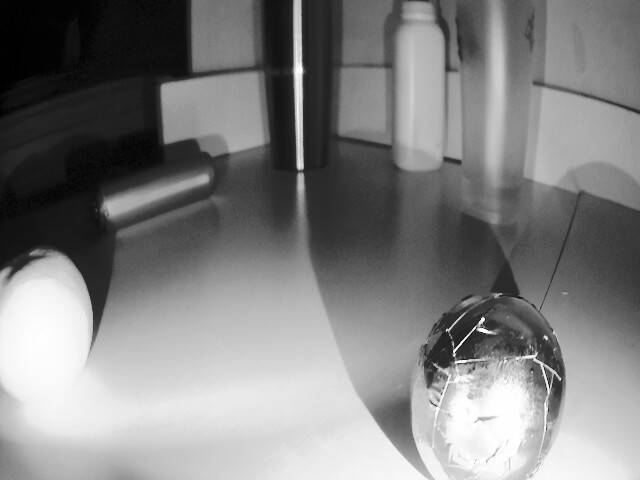black: (417, 296, 577, 480)
